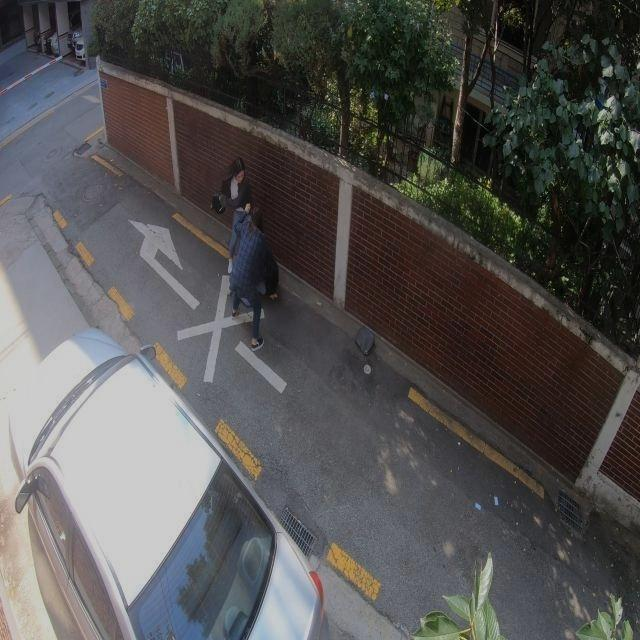fight: (210, 160, 286, 350)
